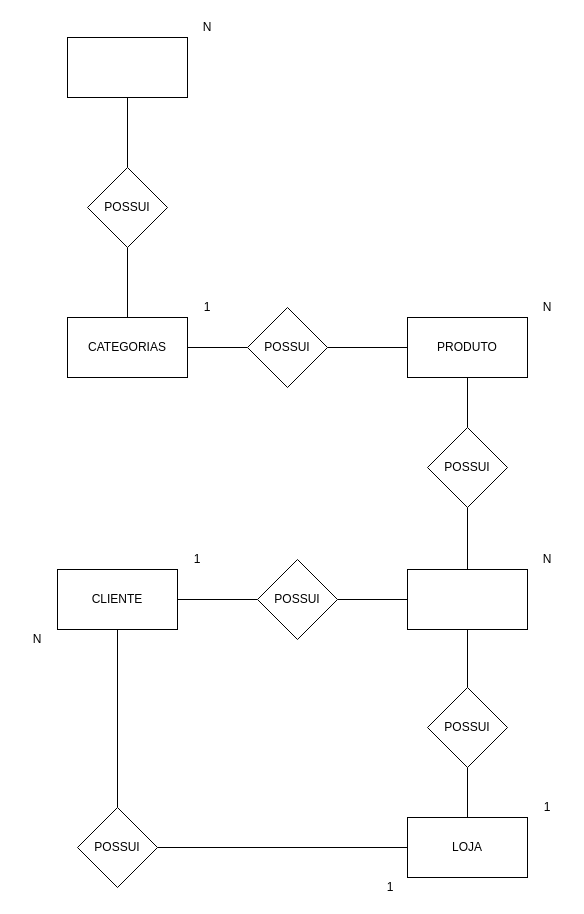
Some shapes in this 584 by 914 pixel diagram are drawn without their labels. Each missing label, with the box of its shape:
PEDIDO: (406, 568, 528, 630)
SUBCATEGORIA: (66, 36, 188, 98)
